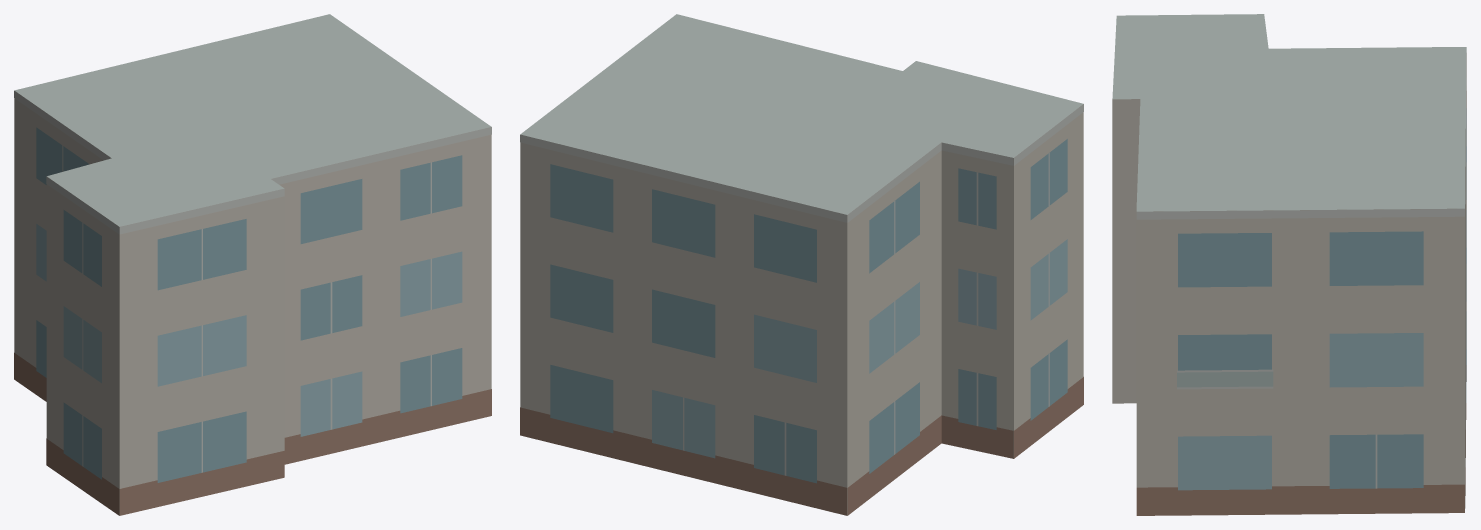
Rendered from survey-upis-32577966.glb.
3 renders of one model, left to right at view 1: azimuth 30°, elevation 25°; view 2: azimuth 150°, elevation 25°; view 3: azimuth 270°, elevation 25°, orthographic. The views are drawn at different scales.
Visible parts, largest first — view 1: survey-upis-32577966.tmp; view 2: survey-upis-32577966.tmp; view 3: survey-upis-32577966.tmp.
Boxes of the visible parts, box(x1,y1,x2,y2) form: survey-upis-32577966.tmp: box(14, 14, 491, 515); survey-upis-32577966.tmp: box(520, 14, 1083, 515); survey-upis-32577966.tmp: box(1112, 14, 1466, 515).
Bounding box in the file's own units: 12.76 × 9.15 × 9.66.
